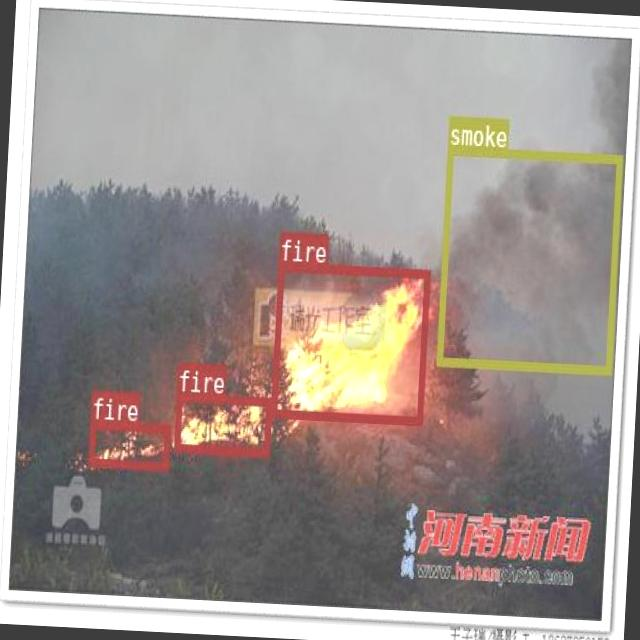fire: (270, 261, 429, 424), (174, 392, 272, 454), (88, 419, 168, 469)
smoke: (436, 144, 621, 373)
